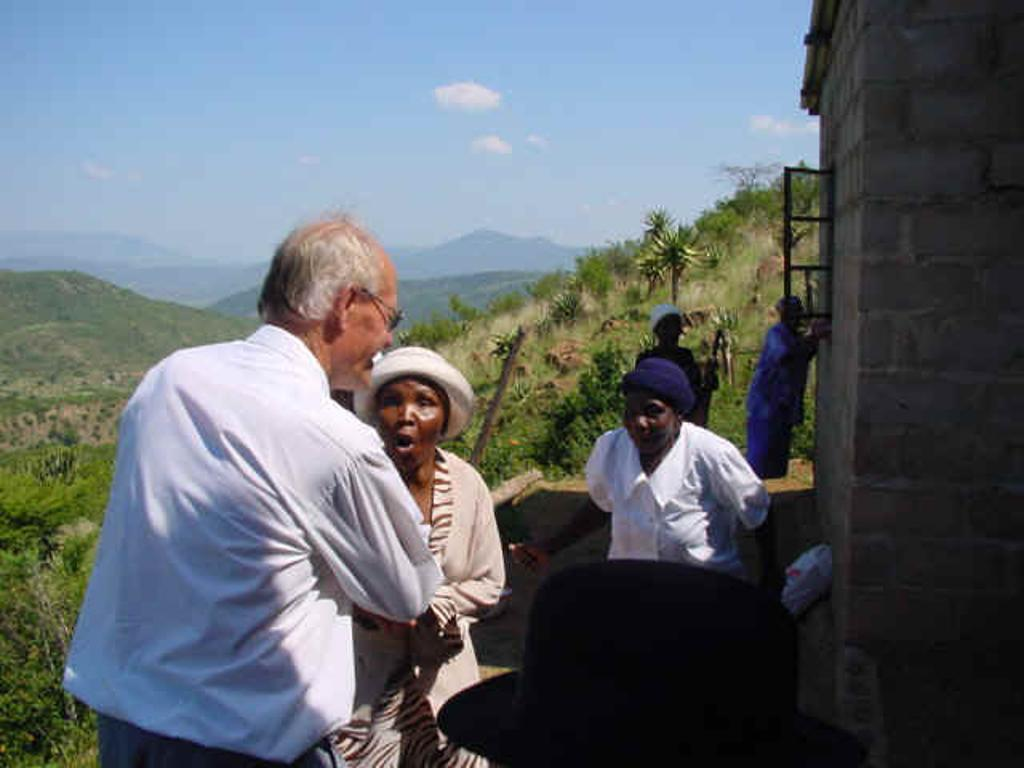face: (333, 271, 396, 387), (375, 377, 442, 469), (624, 390, 672, 450), (659, 316, 678, 343), (783, 306, 799, 325)
